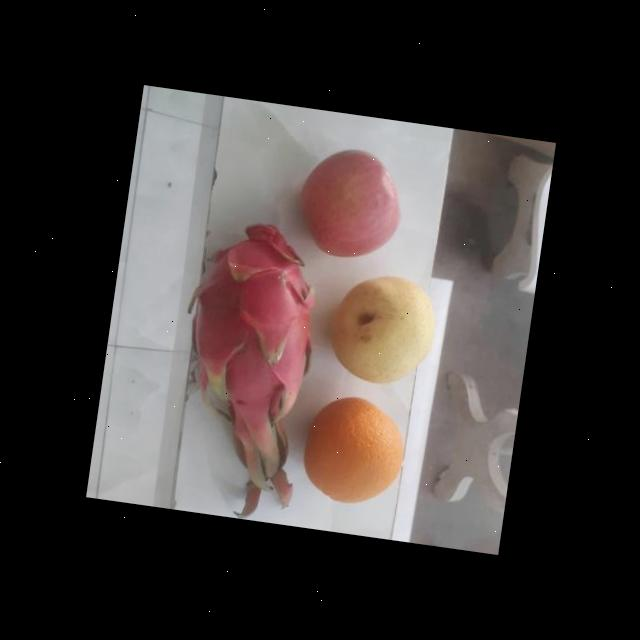apple: (291, 140, 412, 266)
orange: (299, 388, 410, 512)
pear: (324, 262, 440, 392)
pitaya: (180, 200, 332, 427)
